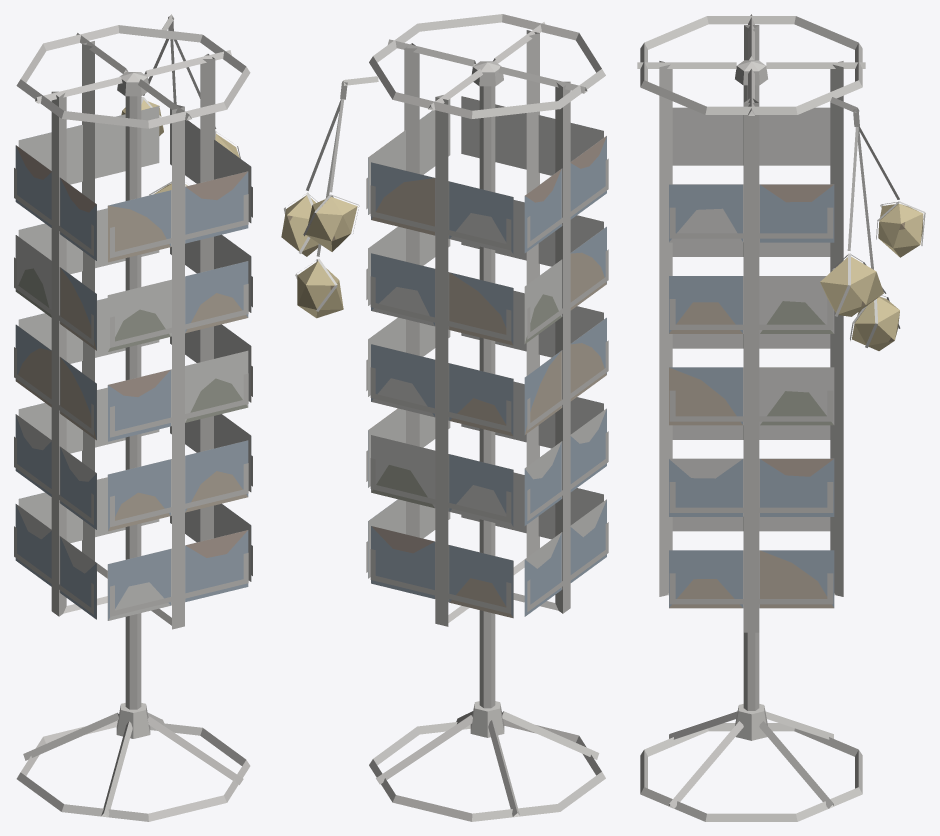
Rendered from stand.glb.
3 views of the same model, side by side, from view 1: azimuth 30°, elevation 25°; view 2: azimuth 150°, elevation 25°; view 3: azimuth 270°, elevation 25° (orthographic).
Parts seen in each view (by area): view 1: stand.001; view 2: stand.001; view 3: stand.001.
Part boxes in pixels (x1,y1,x2,y2): stand.001: (14, 14, 252, 821); stand.001: (281, 14, 608, 821); stand.001: (637, 14, 925, 821).
Size of the model in its own units: 0.5995 by 1.6 by 0.5858.
